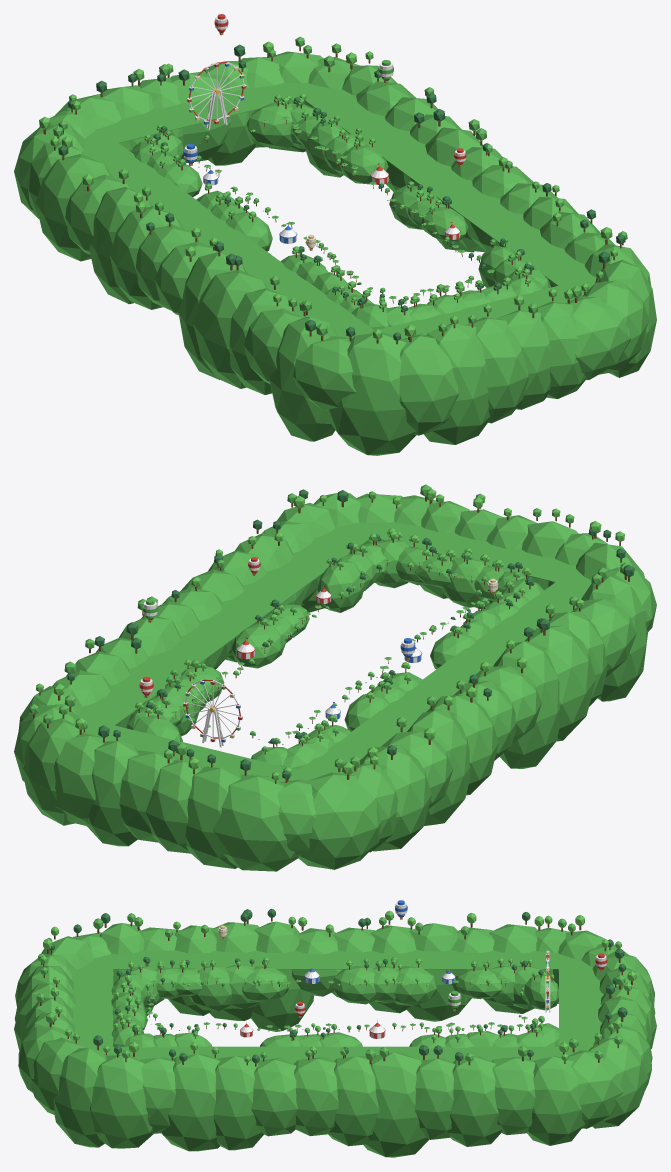
The model's file is CatCafe_WaterPark_Backdrop.glb.
3 views of the same model, one above another, from view 1: azimuth 30°, elevation 25°; view 2: azimuth 150°, elevation 25°; view 3: azimuth 270°, elevation 25° (orthographic). The views are drawn at different scales.
Parts seen in each view (by area): view 1: CatCafe_WaterPark_Backdrop_HillsFar, CatCafe_WaterPark_Backdrop_Ground, CatCafe_WaterPark_Backdrop_Hills, CatCafe_WaterPark_Backdrop; view 2: CatCafe_WaterPark_Backdrop_HillsFar, CatCafe_WaterPark_Backdrop_Ground, CatCafe_WaterPark_Backdrop_Hills, CatCafe_WaterPark_Backdrop; view 3: CatCafe_WaterPark_Backdrop_HillsFar, CatCafe_WaterPark_Backdrop_Hills, CatCafe_WaterPark_Backdrop_Ground, CatCafe_WaterPark_Backdrop.
Boxes of the visible parts, x1,y1,x2,y2 form: CatCafe_WaterPark_Backdrop_HillsFar: [14, 51, 656, 455]; CatCafe_WaterPark_Backdrop_Ground: [82, 82, 596, 339]; CatCafe_WaterPark_Backdrop_Hills: [131, 102, 550, 330]; CatCafe_WaterPark_Backdrop: [39, 14, 627, 344]; CatCafe_WaterPark_Backdrop_HillsFar: [14, 493, 656, 871]; CatCafe_WaterPark_Backdrop_Ground: [77, 522, 591, 781]; CatCafe_WaterPark_Backdrop_Hills: [126, 539, 543, 770]; CatCafe_WaterPark_Backdrop: [29, 484, 634, 783]; CatCafe_WaterPark_Backdrop_HillsFar: [14, 921, 656, 1157]; CatCafe_WaterPark_Backdrop_Hills: [111, 965, 559, 1048]; CatCafe_WaterPark_Backdrop_Ground: [70, 950, 603, 1063]; CatCafe_WaterPark_Backdrop: [36, 900, 636, 1066].
Size of the model in its own units: 648 by 292 by 1082.
1 material, 1 textured.
